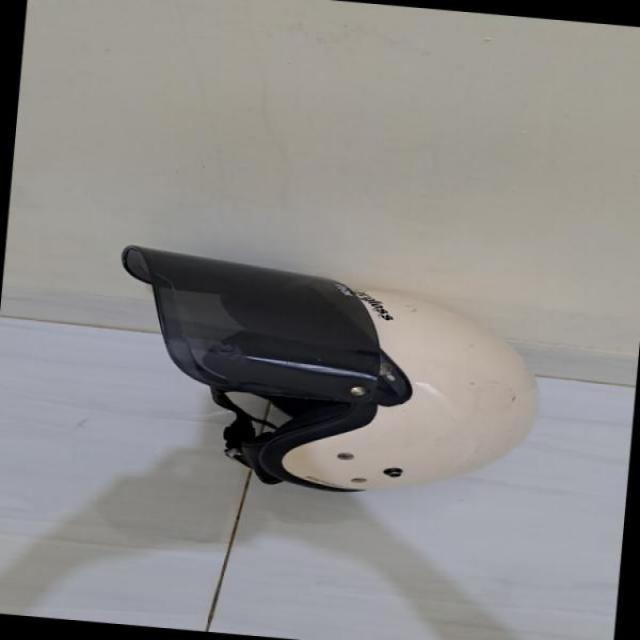Helmet: (123, 228, 533, 502)
